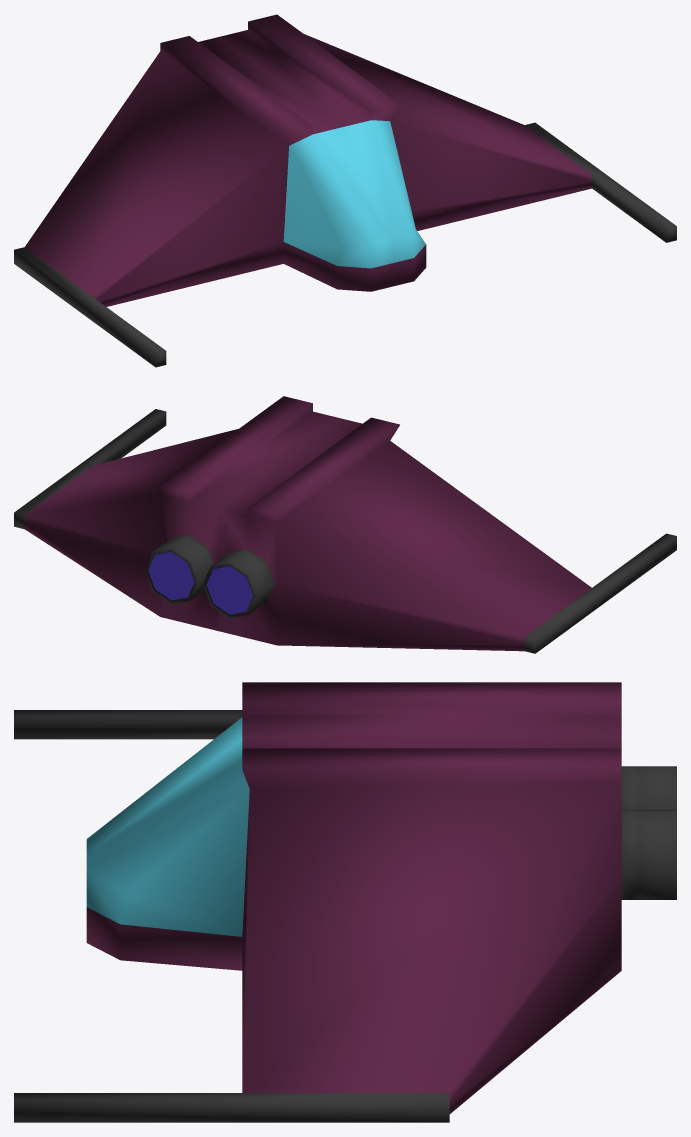
File: Ship.fbx
3 renders of one model, top to bottom at view 1: azimuth 30°, elevation 25°; view 2: azimuth 150°, elevation 25°; view 3: azimuth 270°, elevation 25°, orthographic. The views are drawn at different scales.
Visible parts, largest first — view 1: Cube; view 2: Cube; view 3: Cube.
Part boxes in pixels (<box>): Cube: <box>14,14,676,367</box>; Cube: <box>14,396,676,653</box>; Cube: <box>14,682,676,1122</box>.
Size of the model in its own units: 2.68 by 0.6407 by 1.92.
